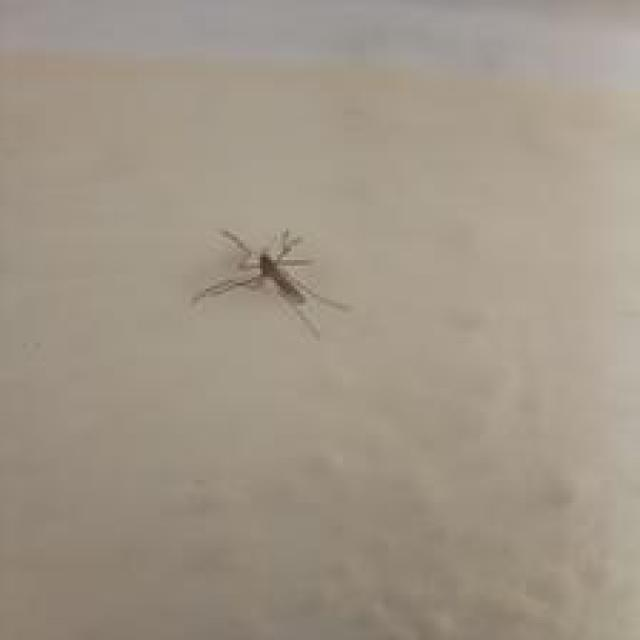Culex: (192, 226, 352, 340)
